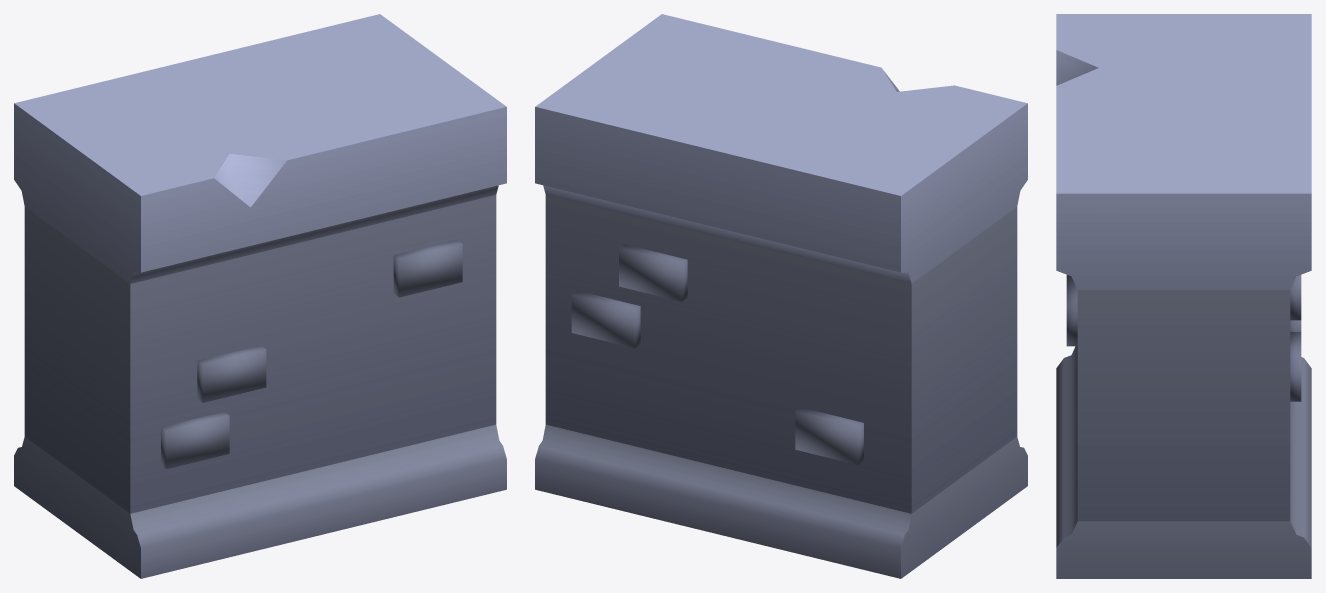
3 renders of one model, left to right at view 1: azimuth 30°, elevation 25°; view 2: azimuth 150°, elevation 25°; view 3: azimuth 270°, elevation 25°, orthographic.
Visible parts, largest first — view 1: wall; view 2: wall; view 3: wall.
Boxes of the visible parts, x1,y1,x2,y2 form: wall: [14, 14, 506, 578]; wall: [535, 14, 1027, 578]; wall: [1056, 14, 1311, 578].
Size of the model in its own units: 1 by 1 by 0.6.
1 material, 1 textured.
